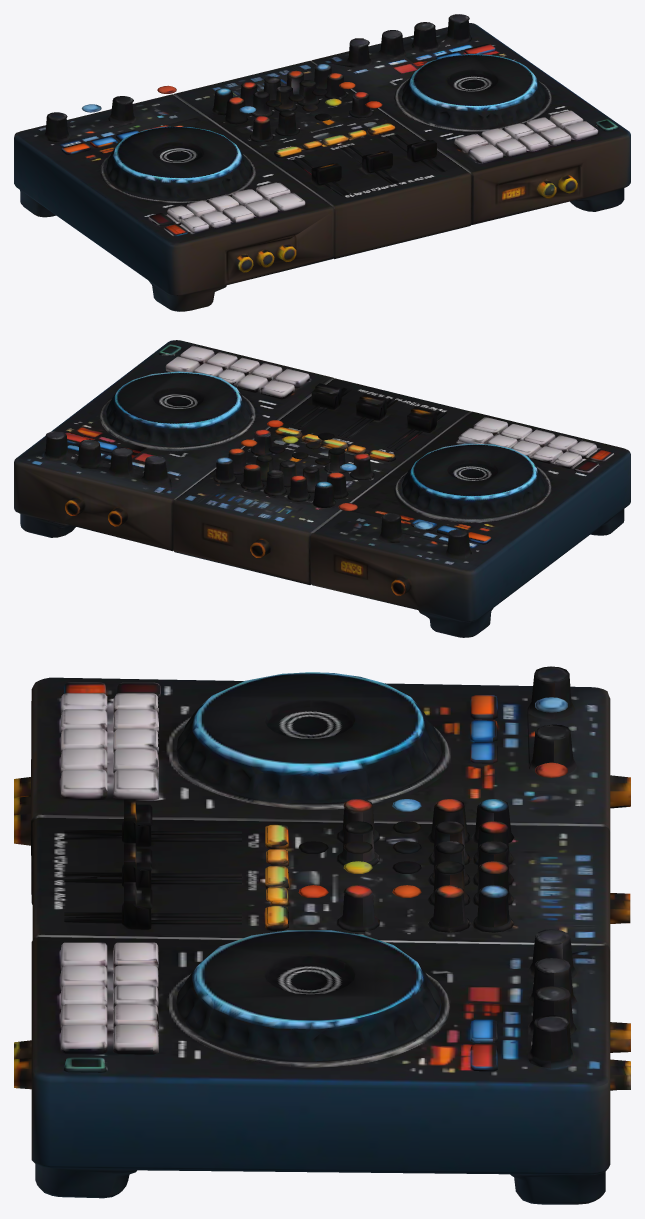
The model's file is dj_mixer_baeeec4e_v2.glb.
3 renders of one model, top to bottom at view 1: azimuth 30°, elevation 25°; view 2: azimuth 150°, elevation 25°; view 3: azimuth 270°, elevation 25°, orthographic. The views are drawn at different scales.
Parts seen in each view (by area): view 1: material; view 2: material; view 3: material.
Part boxes in pixels (x1,y1,x2,y2): material: (14,14,630,311); material: (14,340,630,637); material: (14,666,630,1204).
Size of the model in its own units: 1.9 by 0.3553 by 1.23.
1 material, 1 textured.
